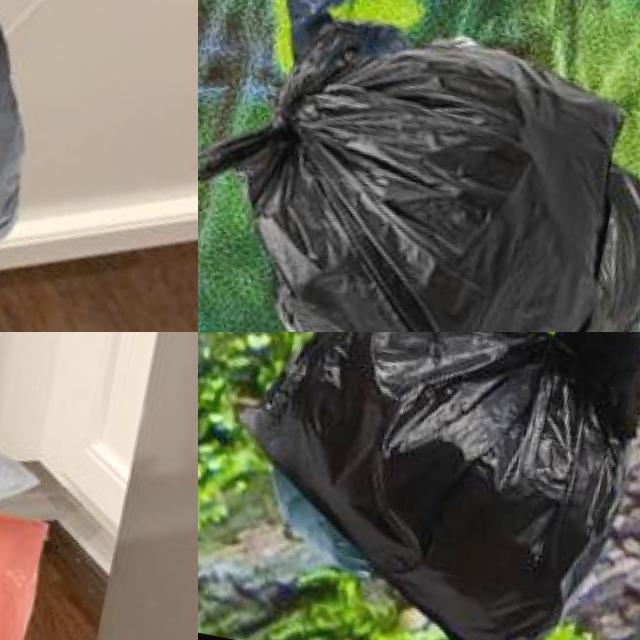waste: (198, 4, 640, 332), (212, 332, 640, 640), (0, 0, 91, 277), (0, 332, 64, 627), (257, 0, 425, 55)
